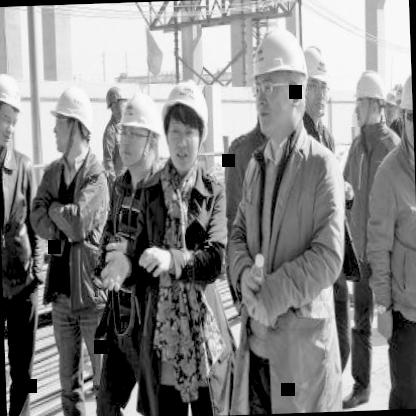helmet: (250, 21, 310, 140), (115, 88, 167, 181), (160, 83, 210, 179), (50, 76, 98, 168), (297, 44, 336, 133), (352, 66, 390, 140), (0, 65, 25, 155), (397, 62, 414, 158), (104, 77, 129, 123)
